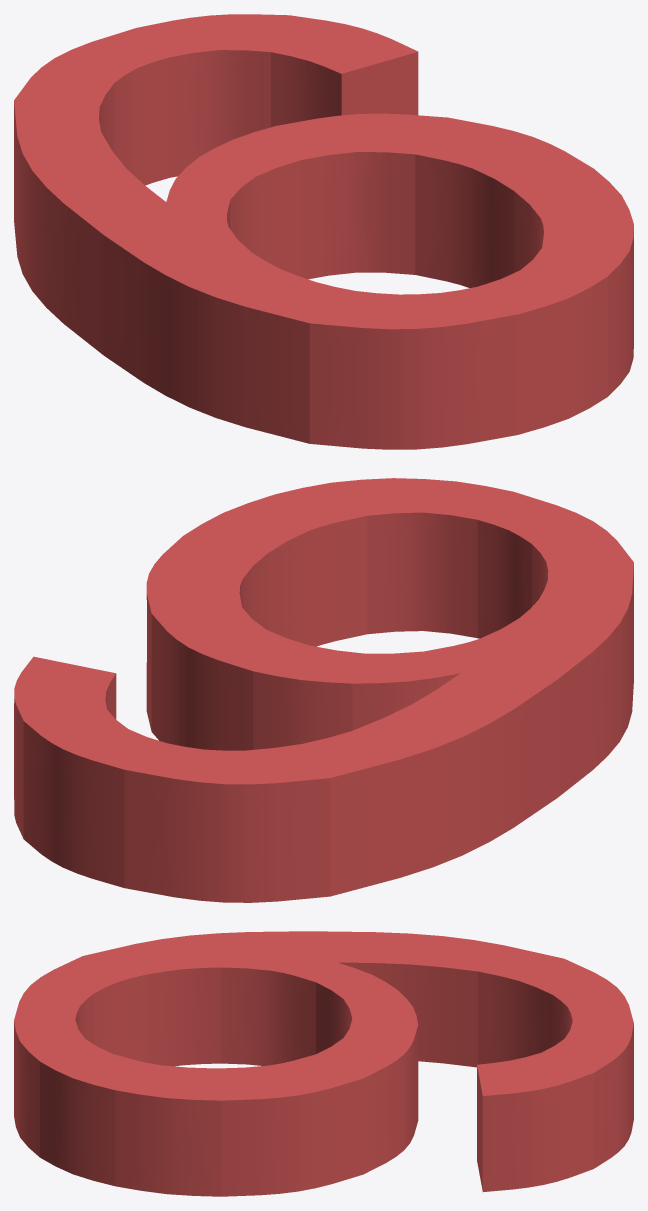
The model's file is uploads_files_1950256_6.fbx.
3 renders of one model, top to bottom at view 1: azimuth 30°, elevation 25°; view 2: azimuth 150°, elevation 25°; view 3: azimuth 270°, elevation 25°, orthographic. The views are drawn at different scales.
Parts seen in each view (by area): view 1: Body67; view 2: Body67; view 3: Body67.
Part boxes in pixels (x1,y1,x2,y2): Body67: [14, 14, 633, 449]; Body67: [14, 478, 633, 902]; Body67: [14, 931, 633, 1196].
Bounding box in the file's own units: 18.91 × 5 × 29.24.
